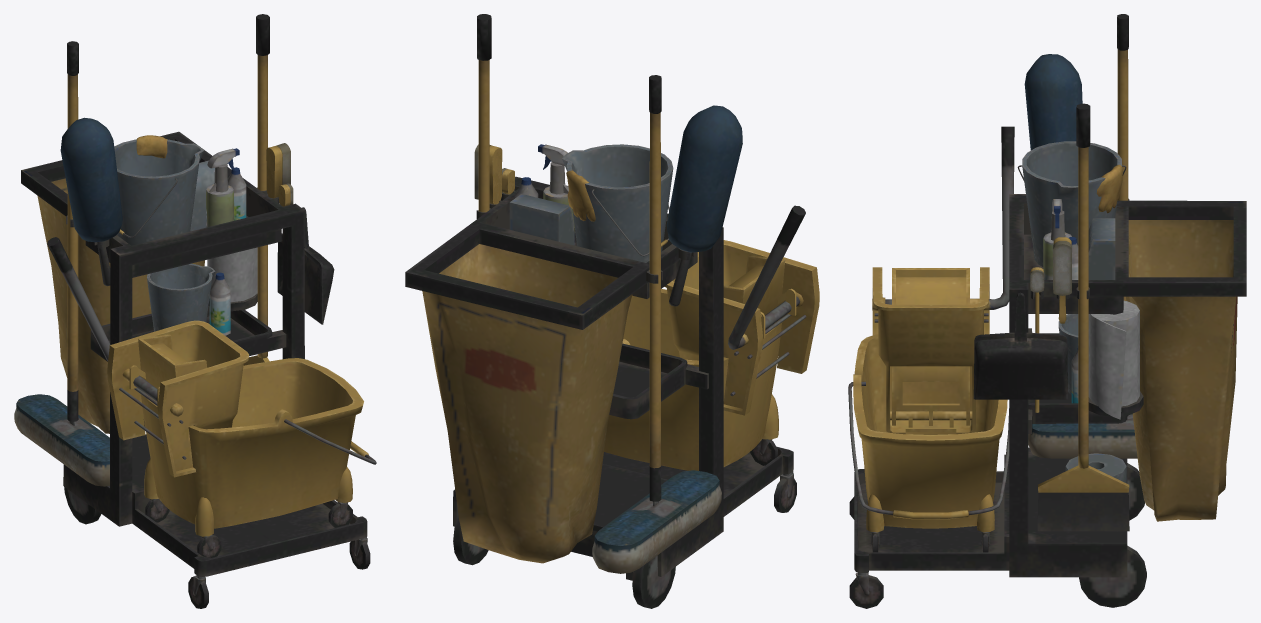
The model's file is 162_CleaningCart.fbx.
3 views of the same model, side by side, from view 1: azimuth 30°, elevation 25°; view 2: azimuth 150°, elevation 25°; view 3: azimuth 270°, elevation 25° (orthographic). The views are drawn at different scales.
Visible parts, largest first — view 1: LOD_1_Group_0_Sub_1__sm30_162_CleaningCart01A_A_Mat; view 2: LOD_1_Group_0_Sub_1__sm30_162_CleaningCart01A_A_Mat; view 3: LOD_1_Group_0_Sub_1__sm30_162_CleaningCart01A_A_Mat.
Part boxes in pixels (x1,y1,x2,y2): LOD_1_Group_0_Sub_1__sm30_162_CleaningCart01A_A_Mat: [14, 14, 376, 608]; LOD_1_Group_0_Sub_1__sm30_162_CleaningCart01A_A_Mat: [405, 14, 819, 608]; LOD_1_Group_0_Sub_1__sm30_162_CleaningCart01A_A_Mat: [848, 14, 1246, 608].
Bounding box in the file's own units: 1.03 × 1.72 × 1.23.
